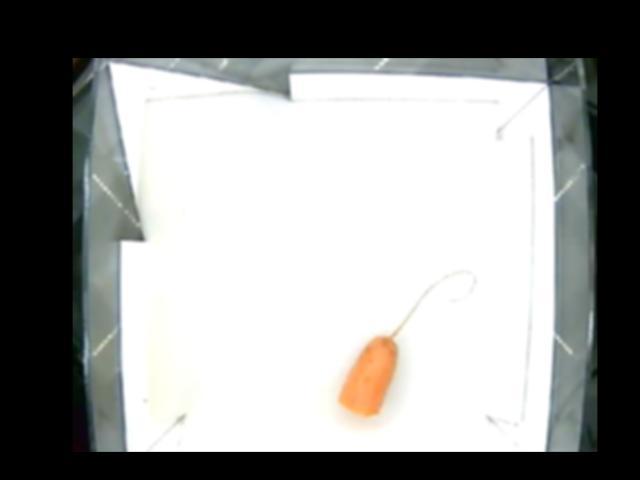Carrot: (339, 337, 396, 411)
